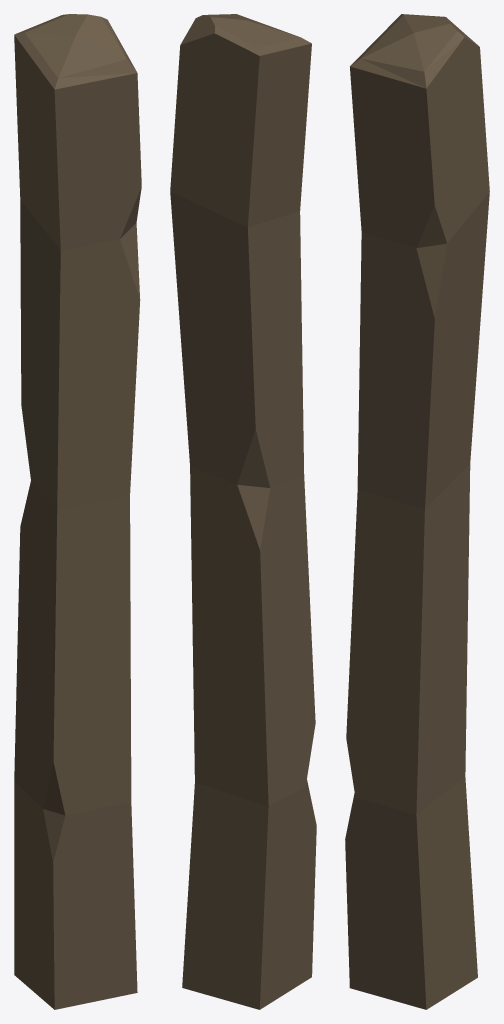
File: wood-post.glb
3 views of the same model, side by side, from view 1: azimuth 30°, elevation 25°; view 2: azimuth 150°, elevation 25°; view 3: azimuth 330°, elevation 25° (orthographic).
Visible parts, largest first — view 1: SM_Prop_RoadSign_01; view 2: SM_Prop_RoadSign_01; view 3: SM_Prop_RoadSign_01.
Boxes of the visible parts, bbox=[...] form: SM_Prop_RoadSign_01: bbox=[14, 14, 141, 1009]; SM_Prop_RoadSign_01: bbox=[170, 14, 316, 1009]; SM_Prop_RoadSign_01: bbox=[345, 14, 489, 1009].
Size of the model in its own units: 0.2509 by 2.35 by 0.241.
Materials: 1 (1 with a texture image).
